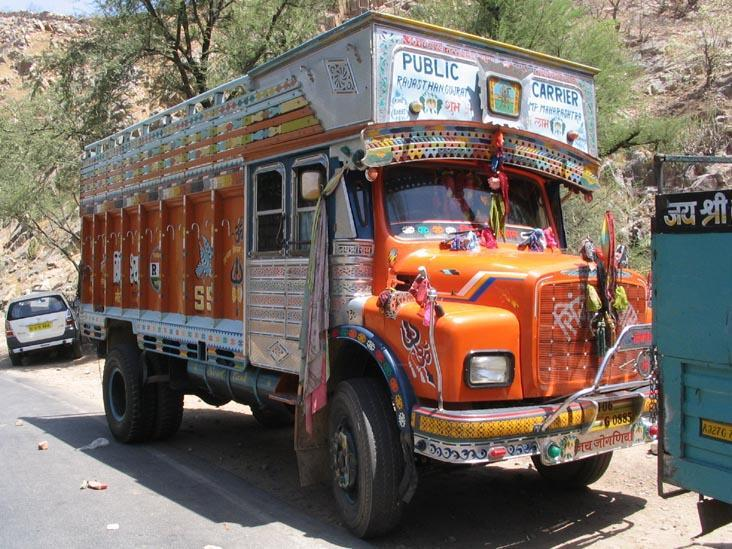truck: (72, 68, 656, 506)
